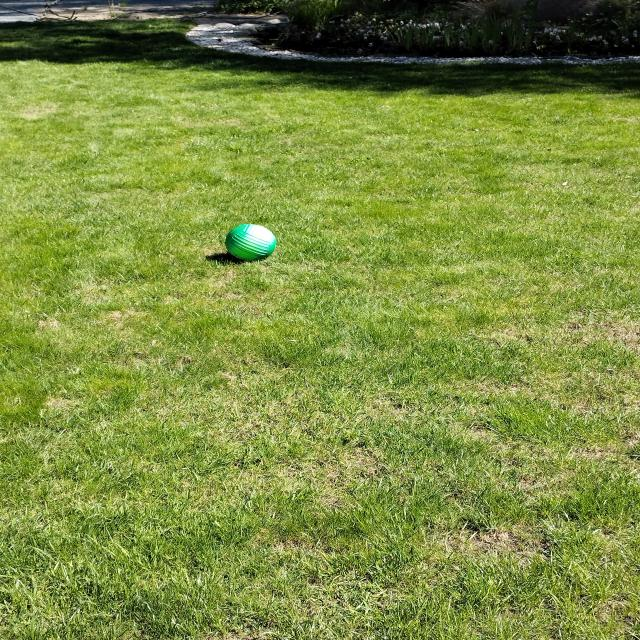zielona: (227, 223, 276, 261)
